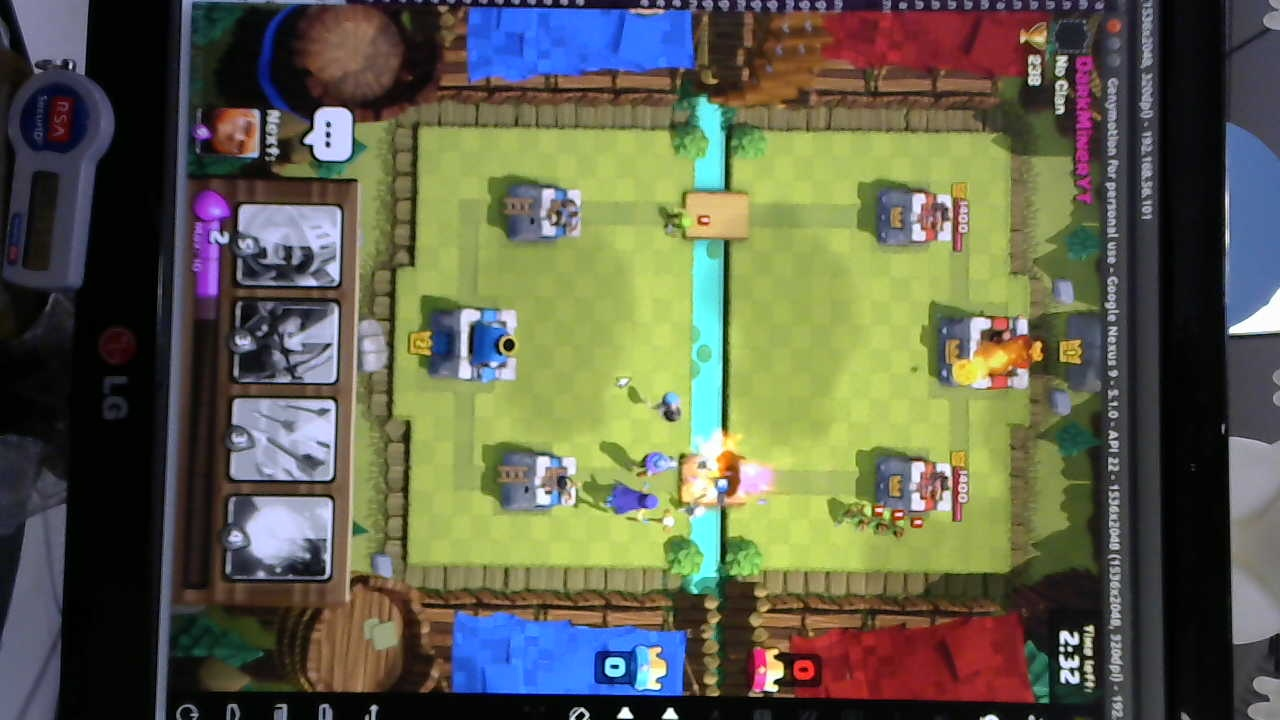arena: (500, 179, 585, 245), (504, 453, 581, 516)
bomb: (649, 390, 687, 428)
earena: (876, 187, 961, 252), (873, 454, 954, 519)
eking: (932, 311, 1040, 393)
goblin: (654, 200, 700, 241)
king: (423, 307, 517, 386)
musketeer: (625, 449, 680, 485)
speargoblins: (840, 497, 917, 541)
witch: (604, 486, 678, 533)
